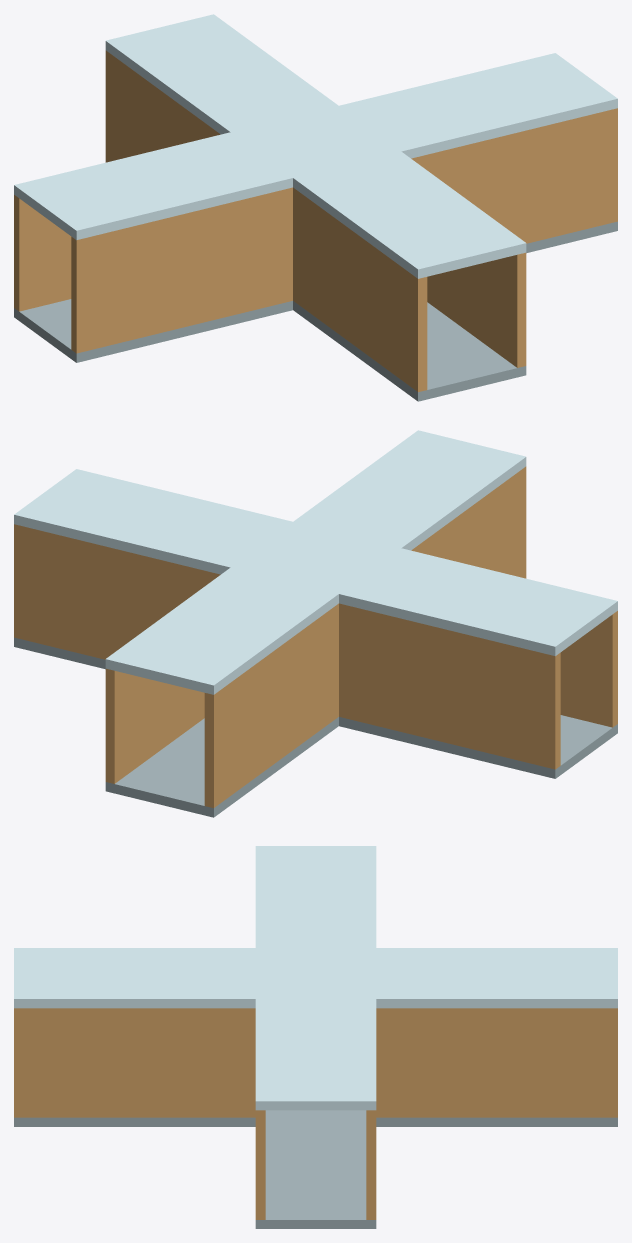
File: Test1x5CrossCorridor.fbx
3 renders of one model, top to bottom at view 1: azimuth 30°, elevation 25°; view 2: azimuth 150°, elevation 25°; view 3: azimuth 270°, elevation 25°, orthographic. The views are drawn at different scales.
Parts seen in each view (by area): view 1: wall.009, wall.026, wall.031, roof.003, roof.018, wall.008, roof.013, roof.017, roof.012, roof.008, roof.002, roof.007 (+11 smaller); view 2: wall.014, wall.023, wall.038, roof.008, roof.018, wall.013, roof.013, roof.017, roof.012, roof.003, roof.007, roof.002 (+11 smaller); view 3: wall, wall.039, wall.001, wall.016, roof.002, roof.007, roof.013, roof.003, roof.008, floor.011, roof.012, roof.001 (+10 smaller).
Part boxes in pixels (left/top/right/bottom): wall.009: left=184, top=187, right=355, bottom=346; wall.026: left=71, top=214, right=184, bottom=353; wall.031: left=509, top=108, right=617, bottom=243; roof.003: left=355, top=197, right=526, bottom=278; roof.018: left=14, top=158, right=184, bottom=240; wall.008: left=355, top=233, right=427, bottom=392; roof.013: left=447, top=53, right=617, bottom=134; roof.017: left=123, top=132, right=292, bottom=213; roof.012: left=339, top=79, right=509, bottom=158; roof.008: left=105, top=14, right=275, bottom=95; roof.002: left=293, top=151, right=463, bottom=232; roof.007: left=168, top=60, right=338, bottom=134; wall.014: left=276, top=603, right=447, bottom=762; wall.023: left=447, top=630, right=560, bottom=769; wall.038: left=14, top=524, right=122, bottom=659; roof.008: left=105, top=613, right=276, bottom=694; roof.018: left=447, top=574, right=617, bottom=656; wall.013: left=204, top=649, right=276, bottom=808; roof.013: left=14, top=469, right=184, bottom=550; roof.017: left=339, top=548, right=508, bottom=629; roof.012: left=122, top=495, right=292, bottom=574; roof.003: left=356, top=430, right=526, bottom=511; roof.007: left=168, top=567, right=338, bottom=648; roof.002: left=293, top=476, right=463, bottom=550; wall: left=134, top=1008, right=255, bottom=1117; wall.039: left=376, top=1008, right=497, bottom=1117; wall.001: left=14, top=1008, right=134, bottom=1117; wall.016: left=497, top=1008, right=617, bottom=1117; roof.002: left=134, top=948, right=255, bottom=1008; roof.007: left=376, top=948, right=497, bottom=1008; roof.013: left=255, top=1050, right=376, bottom=1110; roof.003: left=14, top=948, right=134, bottom=1008; roof.008: left=497, top=948, right=617, bottom=1008; floor.011: left=255, top=1168, right=376, bottom=1228; roof.012: left=255, top=999, right=376, bottom=1050; roof.001: left=255, top=948, right=376, bottom=998.
Bounding box in the file's own units: 1500 × 350 × 1500.
